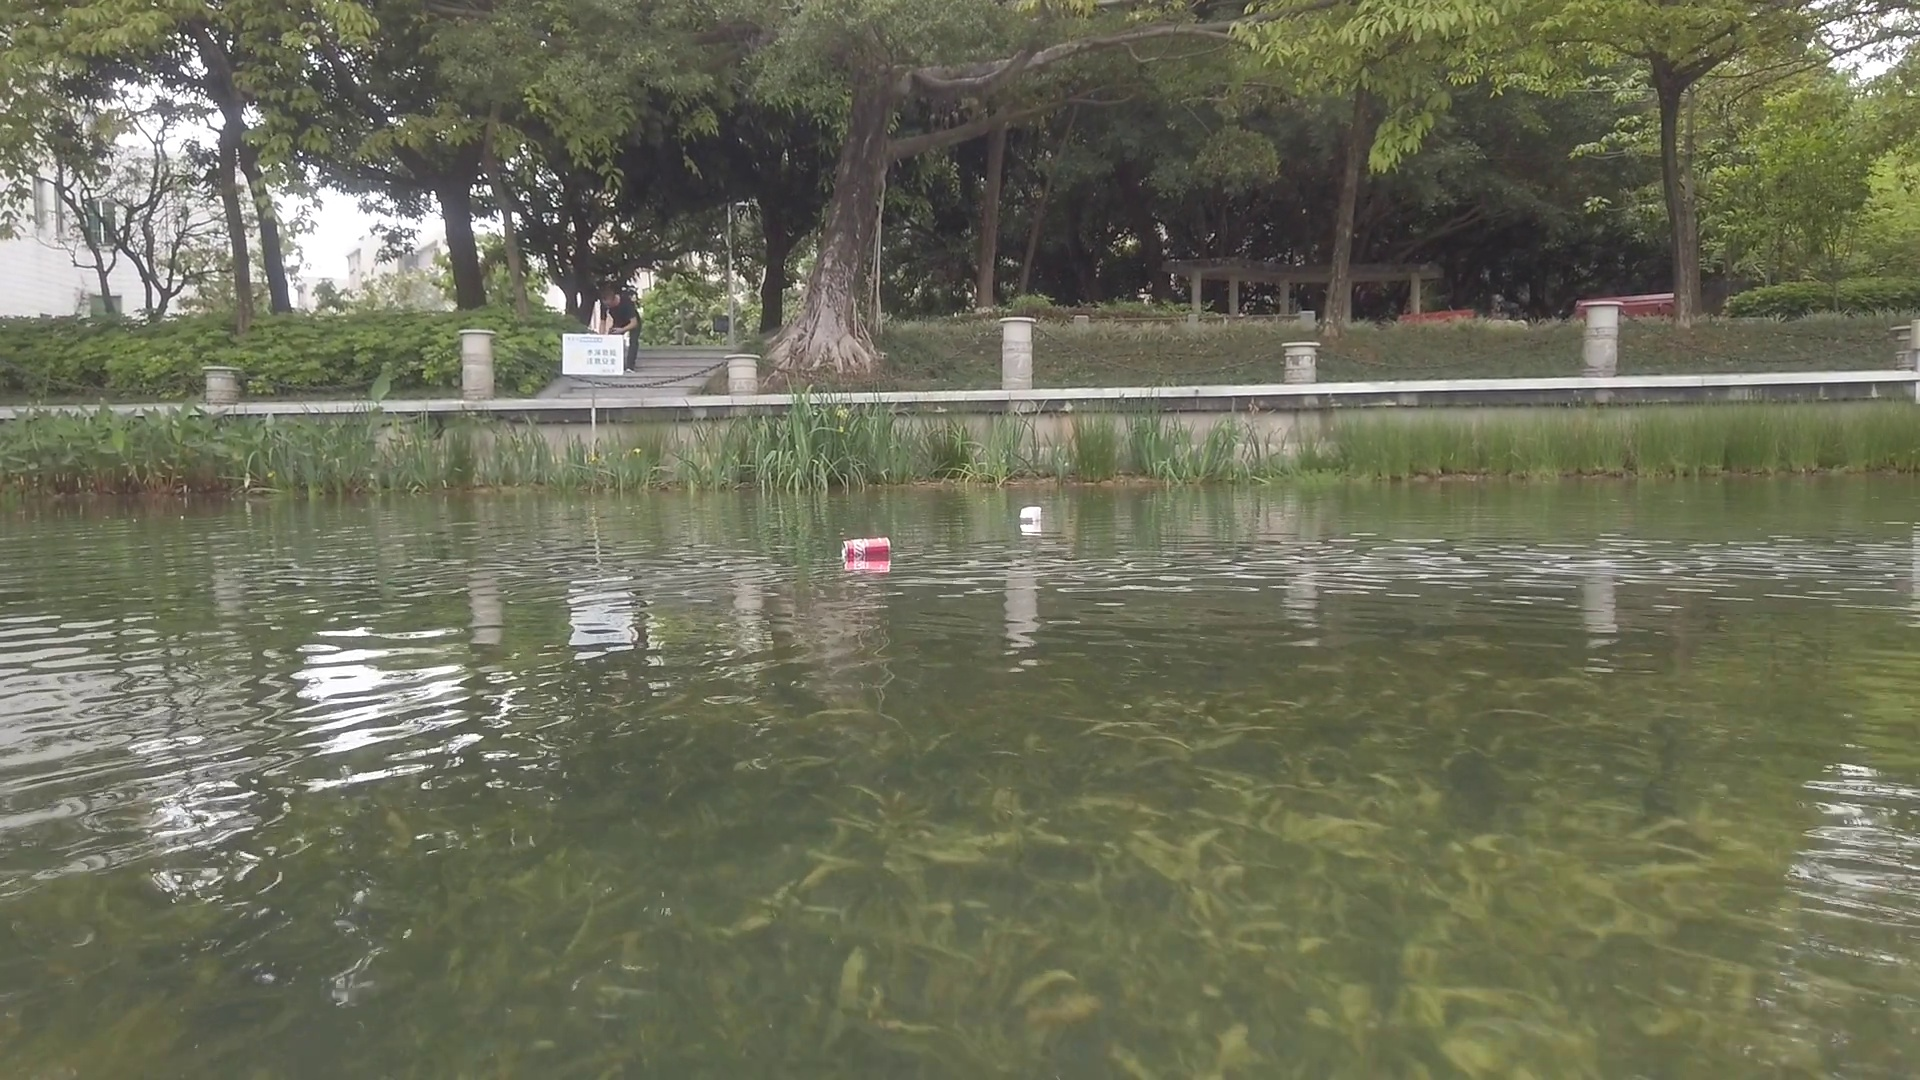bottle: (837, 534, 890, 562)
carton: (1018, 504, 1043, 530)
